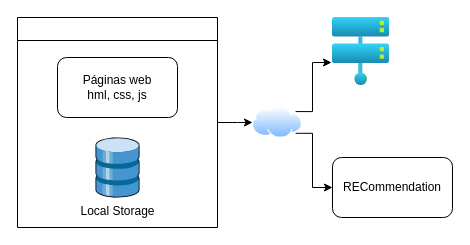
The diagram is 470 pixels wide and 245 high, and some of its shapes have lost their labels. The box of each missing label's shape, as (x1, y1, x2, y2) in pixels:
Navegador: (16, 16, 218, 228)
Vercel: (332, 17, 389, 85)
